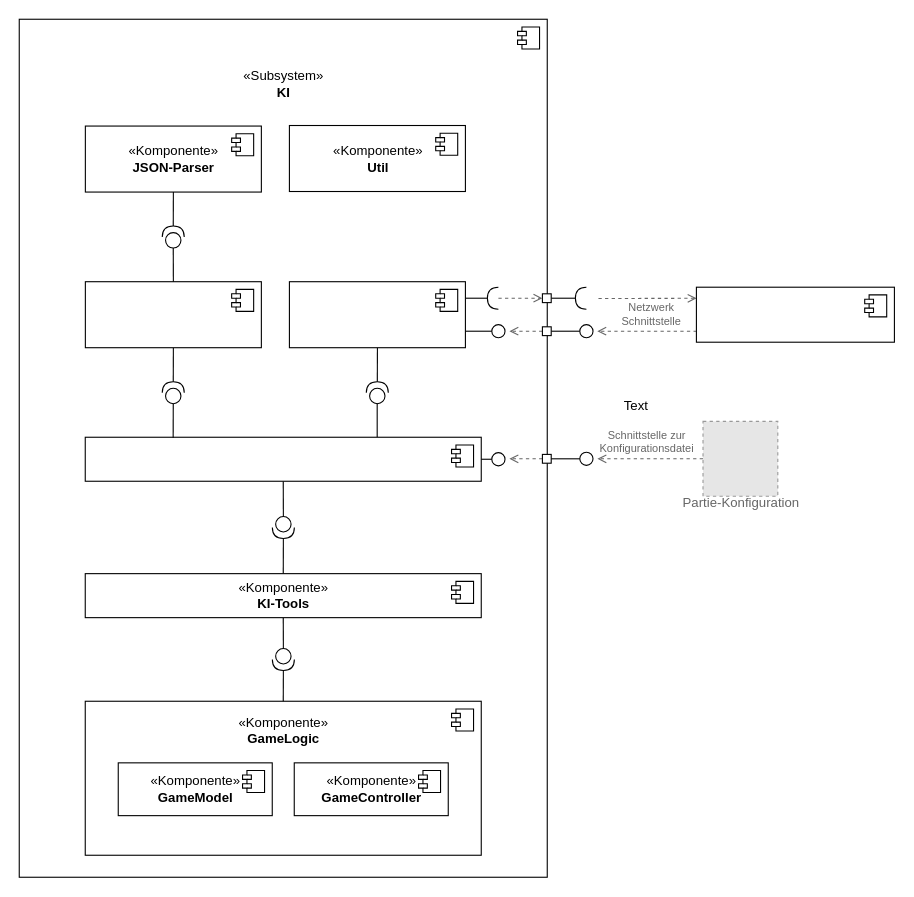
Image size: 914x897. Some labels were removed from this diagram. Grey dashed boxes stand in for pictures. The shapes that lost their labels are listed below. From the top down, each one's centre as x and y in pixels, then its label:
At [172,314]: "«Komponente» Messages".
At [376,314]: "«Komponente» Network".
At [794,314]: "«Subsystem» Client / KI-Client".
At [282,458]: "«Komponente» Communicator".
